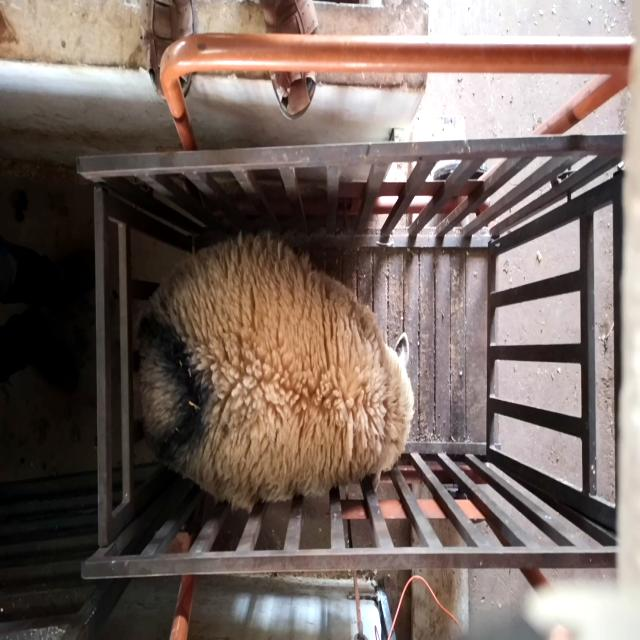sheep: (135, 235, 414, 509)
